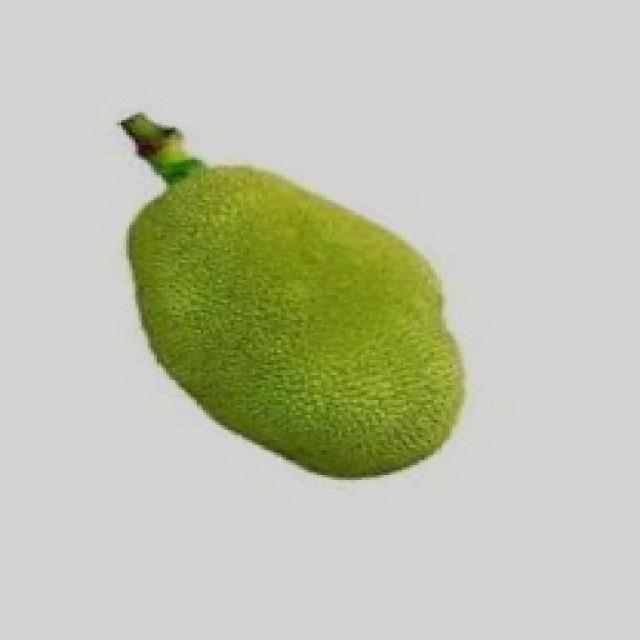Fruit: (98, 138, 490, 508)
